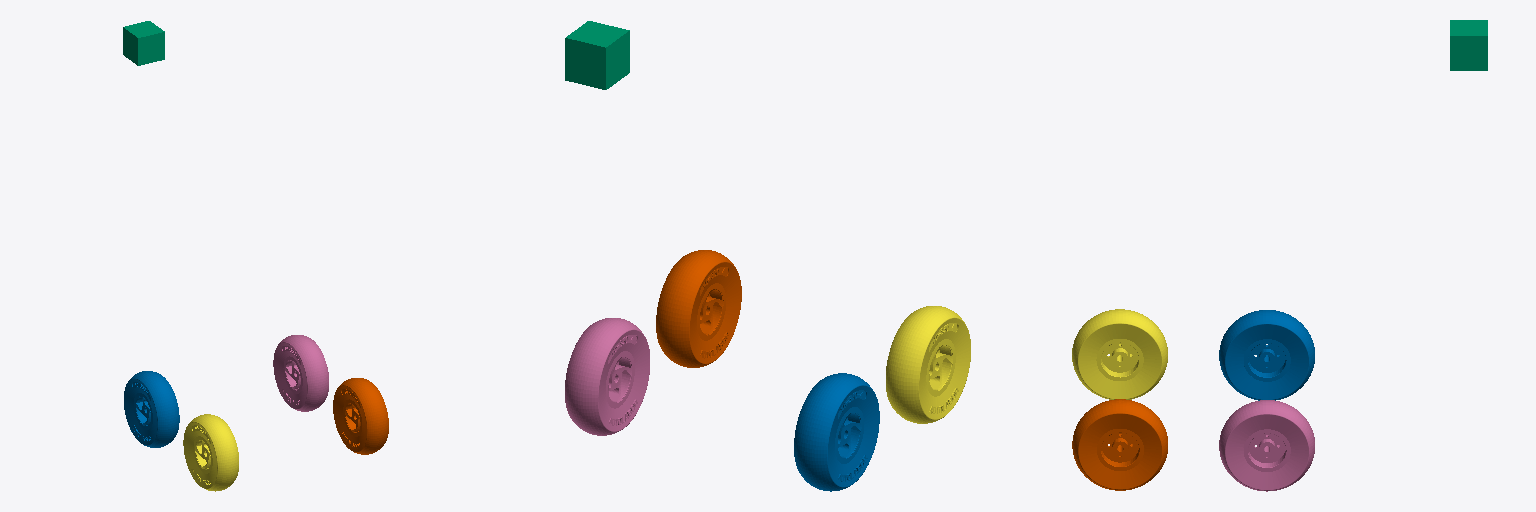
The robot description file, URDF, robot "autolabor_description":
<?xml version="1.0" ?>
<robot name="autolabor_description">
  <joint name="dummy_joint" type="fixed">
    <parent link="odom"/>
    <child link="base_link"/>
    <origin xyz="0 0 0" rpy="0 0 0"/>
  </joint>
  <joint name="cam_joint" type="fixed">
    <parent link="base_link"/>
    <child link="camera"/>
    <origin xyz="0 0.8 1" rpy="0 1.5707 0"/>
  </joint>
  <joint name="frjoint" type="revolute">
    <parent link="base_link"/>
    <child link="front_right_wheel"/>
    <origin rpy="0  0  0" xyz="-0.2786993682384491 -0.12106603384017944 -0.02870245650410652"/>
    <axis xyz="1  0  0"/>
    <limit effort="10" lower="-1.79769e+308" upper="1.79769e+308" velocity="10"/>
  </joint>
  <joint name="brjoint" type="fixed">
    <parent link="base_link"/>
    <child link="back_right_wheel"/>
    <origin rpy="0  0  0" xyz="-0.2786993682384491 0.2670927047729492 -0.03011767752468586"/>
  </joint>
  <joint name="fljoint" type="revolute">
    <parent link="base_link"/>
    <child link="front_left_wheel"/>
    <origin rpy="0  0  0" xyz="0.2827356159687042 -0.1203216165304184 -0.02870248258113861"/>
    <axis xyz="1  0  0"/>
    <limit effort="10" lower="-1.79769e+308" upper="1.79769e+308" velocity="10"/>
  </joint>
  <joint name="bljoint" type="fixed">
    <parent link="base_link"/>
    <child link="back_left_wheel"/>
    <origin rpy="0  0  0" xyz="0.2827356159687042 0.2670927047729492 -0.03086165525019169"/>
  </joint>
  <link name="odom"/>
  <link name="base_link">
    <inertial>
      <mass value="10"/>
      <origin rpy="0  0  0" xyz="0  0  0"/>
      <inertia ixx="0.166667" ixy="0" ixz="0" iyy="0.166667" iyz="0" izz="0.166667"/>
    </inertial>
    <collision name="collision">
      <origin rpy="0  0  0" xyz="0  0  0"/>
      <geometry>
        <mesh filename="package://autolabor_description/meshes/body.stl" scale="1 1 1"/>
      </geometry>
    </collision>
    <visual name="visual">
      <origin rpy="0  0  0" xyz="0  0  0"/>
      <geometry>
        <mesh filename="package://autolabor_description/meshes/body.stl" scale="1 1 1"/>
      </geometry>
    </visual>
  </link>
  <link name="camera">
    <inertial>
      <mass value="0.001"/>
      <origin rpy="0 0 0" xyz="0 0 0"/>
      <inertia ixx="0.000166667" iyy="0.000166667" izz="0.000166667" ixy="0" ixz="0" iyz="0"/>
    </inertial>
    <collision>
      <origin rpy="0 0 0" xyz="0 0 0"/>
      <geometry>
        <box size="0.1 0.1 0.1"/>
      </geometry>
    </collision>
    <visual>
      <origin rpy="0 0 0" xyz="0 0 0"/>
      <geometry>
        <box size="0.1 0.1 0.1"/>
      </geometry>
    </visual>
  </link>
  <link name="front_right_wheel">
    <inertial>
      <mass value="1"/>
      <origin rpy="0  0  0" xyz="0  0  0"/>
      <inertia ixx="0.166667" ixy="0" ixz="0" iyy="0.166667" iyz="0" izz="0.166667"/>
    </inertial>
    <collision name="collision">
      <origin rpy="0  0  0" xyz="0  0  0"/>
      <geometry>
        <mesh filename="package://autolabor_description/meshes/wheel.stl" scale="1 1 1"/>
      </geometry>
    </collision>
    <visual name="visual">
      <origin rpy="0  0  0" xyz="0  0  0"/>
      <geometry>
        <mesh filename="package://autolabor_description/meshes/wheel.stl" scale="1 1 1"/>
      </geometry>
    </visual>
  </link>
  <link name="back_right_wheel">
    <inertial>
      <mass value="1"/>
      <origin rpy="0  0  0" xyz="0  0  0"/>
      <inertia ixx="0.166667" ixy="0" ixz="0" iyy="0.166667" iyz="0" izz="0.166667"/>
    </inertial>
    <collision name="collision">
      <origin rpy="0  0  0" xyz="0  0  0"/>
      <geometry>
        <mesh filename="package://autolabor_description/meshes/wheel.stl" scale="1 1 1"/>
      </geometry>
    </collision>
    <visual name="visual">
      <origin rpy="0  0  0" xyz="0  0  0"/>
      <geometry>
        <mesh filename="package://autolabor_description/meshes/wheel.stl" scale="1 1 1"/>
      </geometry>
    </visual>
  </link>
  <link name="front_left_wheel">
    <inertial>
      <mass value="1"/>
      <origin rpy="0  0  0" xyz="0  0  0"/>
      <inertia ixx="0.166667" ixy="0" ixz="0" iyy="0.166667" iyz="0" izz="0.166667"/>
    </inertial>
    <collision name="collision">
      <origin rpy="0  0  0" xyz="0  0  0"/>
      <geometry>
        <mesh filename="package://autolabor_description/meshes/wheel.stl" scale="1 1 1"/>
      </geometry>
    </collision>
    <visual name="visual">
      <origin rpy="0  0  0" xyz="0  0  0"/>
      <geometry>
        <mesh filename="package://autolabor_description/meshes/wheel.stl" scale="1 1 1"/>
      </geometry>
    </visual>
  </link>
  <link name="back_left_wheel">
    <inertial>
      <mass value="1"/>
      <origin rpy="0  0  0" xyz="0  0  0"/>
      <inertia ixx="0.166667" ixy="0" ixz="0" iyy="0.166667" iyz="0" izz="0.166667"/>
    </inertial>
    <collision name="collision">
      <origin rpy="0  0  0" xyz="0  0  0"/>
      <geometry>
        <mesh filename="package://autolabor_description/meshes/wheel.stl" scale="1 1 1"/>
      </geometry>
    </collision>
    <visual name="visual">
      <origin rpy="0  0  0" xyz="0  0  0"/>
      <geometry>
        <mesh filename="package://autolabor_description/meshes/wheel.stl" scale="1 1 1"/>
      </geometry>
    </visual>
  </link>
  <transmission name="tran1">
    <type>transmission_interface/SimpleTransmission</type>
    <joint name="frjoint">
      <hardwareInterface>hardware_interface/VelocityJointInterface</hardwareInterface>
    </joint>
    <actuator name="motor1">
      <mechanicalReduction>1</mechanicalReduction>
    </actuator>
  </transmission>
  <transmission name="tran2">
    <type>transmission_interface/SimpleTransmission</type>
    <joint name="fljoint">
      <hardwareInterface>hardware_interface/VelocityJointInterface</hardwareInterface>
    </joint>
    <actuator name="motor2">
      <mechanicalReduction>1</mechanicalReduction>
    </actuator>
  </transmission>

  <gazebo reference="camera">
    <sensor type="camera" name="camera">
      <update_rate>30.0</update_rate>
      <camera name="scaner">
        <horizontal_fov>1.5</horizontal_fov>
        <image>
          <width>320</width>
          <height>240</height>
          <format>R8G8B8</format>
        </image>
        <clip>
          <near>0.01</near>
          <far>100</far>
        </clip>
      </camera>
      <plugin name="camera_controller" filename="libgazebo_ros_camera.so">
        <alwaysOn>true</alwaysOn>
        <updateRate>0.0</updateRate>
        <cameraName>autolabor_pro1/camera1</cameraName>
        <imageTopicName>image_raw</imageTopicName>
        <cameraInfoTopicName>camera_info</cameraInfoTopicName>
        <frameName>camera_link</frameName>
      </plugin>
    </sensor>
  </gazebo>

  <gazebo>
    <plugin name="gazebo_ros_control" filename="libgazebo_ros_control.so">
      <robotNamespace>/autolabor_pro1</robotNamespace>
      <robotSimType>gazebo_ros_control/DefaultRobotHWSim</robotSimType>
    </plugin>
  </gazebo>
</robot>

--- Render facts (derived) ---
Views: 3 orthographic renders of the robot side by side, from view 1: azimuth 30°, elevation 25°; view 2: azimuth 150°, elevation 25°; view 3: azimuth 270°, elevation 25°.
Robot: autolabor_description — 7 links, 6 joints (2 revolute, 4 fixed); root link odom; default pose: every joint at zero.
Visible links, largest first — view 1: front_left_wheel, back_right_wheel, back_left_wheel, front_right_wheel, camera; view 2: back_right_wheel, front_left_wheel, front_right_wheel, back_left_wheel, camera; view 3: front_left_wheel, back_left_wheel, front_right_wheel, back_right_wheel, camera.
Boxes of the visible links, x1,y1,x2,y2 form: front_left_wheel: (333, 378, 388, 454); back_right_wheel: (124, 371, 179, 447); back_left_wheel: (273, 335, 328, 411); front_right_wheel: (183, 414, 238, 491); camera: (123, 21, 164, 65); back_right_wheel: (794, 373, 879, 491); front_left_wheel: (656, 250, 741, 367); front_right_wheel: (886, 306, 970, 423); back_left_wheel: (565, 318, 649, 435); camera: (565, 21, 629, 89); front_left_wheel: (1072, 399, 1167, 490); back_left_wheel: (1219, 400, 1314, 491); front_right_wheel: (1072, 309, 1167, 399); back_right_wheel: (1219, 310, 1314, 400); camera: (1450, 20, 1487, 70).
Size in the robot's own frame: 0.6436 by 1.1 by 1.21 metres.
4 mesh visuals loaded from 2 distinct referenced files (1 binary STL); not drawn: 1 (reference not matched to a file when rendering).
